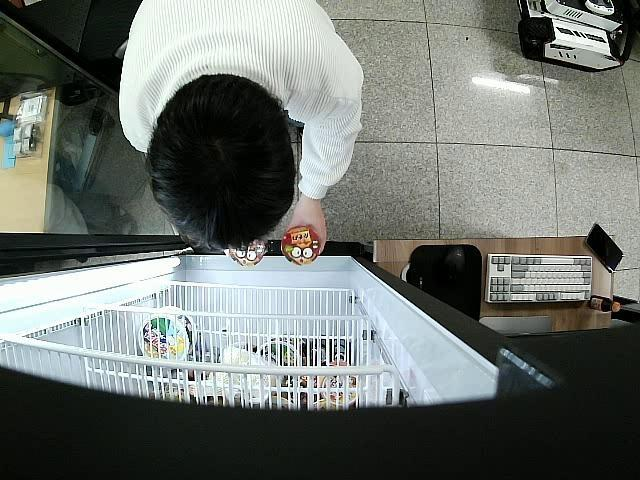06_nuguri_S: (282, 226, 321, 267)
